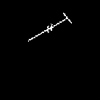treble_crochet: (29, 13, 71, 39)
